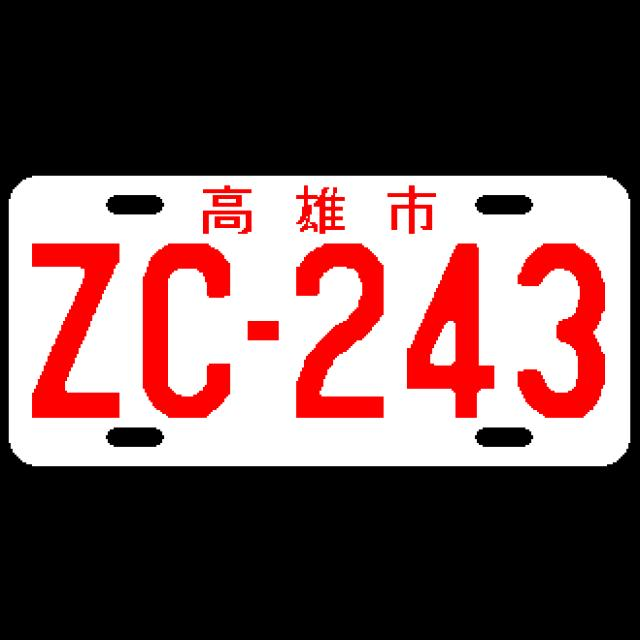plate: (4, 174, 634, 471)
